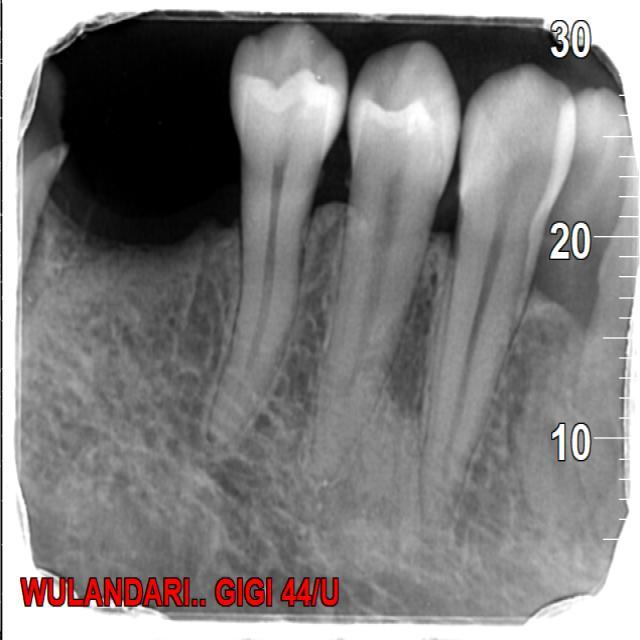individual-tooth-8tto: (426, 56, 578, 515), (194, 23, 356, 447), (314, 41, 458, 476)
